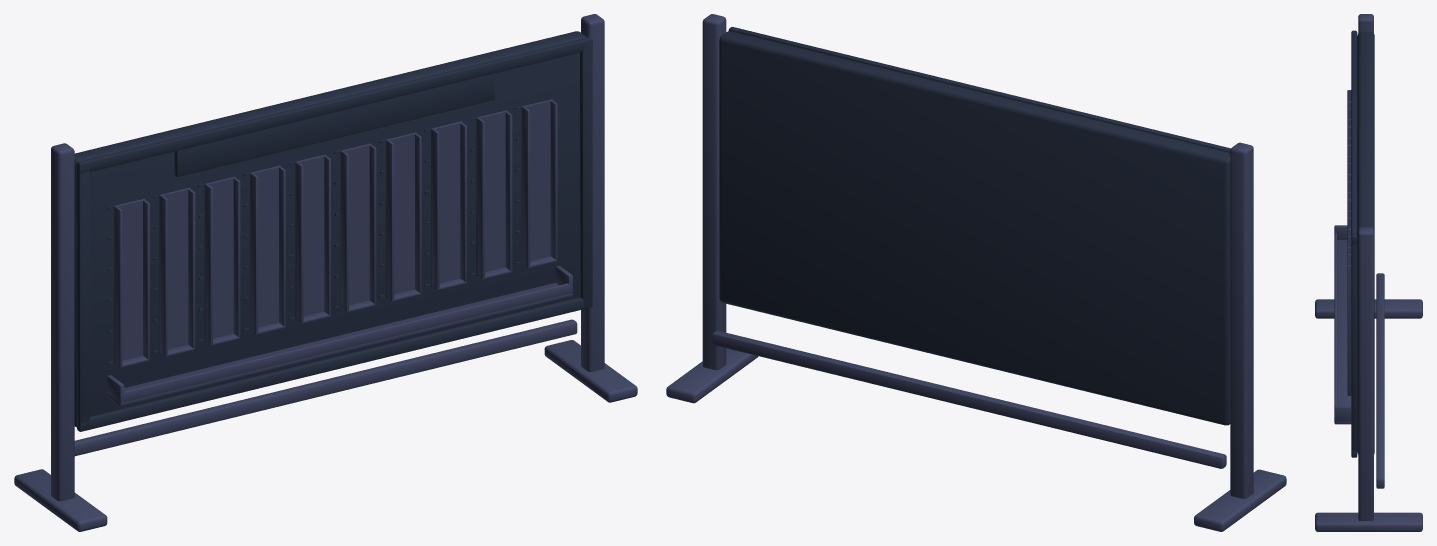
The model's file is counter_board.glb.
The picture shows the model from 3 angles, left to right: view 1: azimuth 30°, elevation 25°; view 2: azimuth 150°, elevation 25°; view 3: azimuth 270°, elevation 25°; orthographic projection. The views are drawn at different scales.
Visible parts, largest first — view 1: board.housing, board.stand, board.rail, board.slot.2, board.slot.5, board.slot.1, board.slot.8, board.slot.9, board.slot.3, board.slot.4, board.slot.6, board.slot.0 (+1 smaller); view 2: board.housing, board.stand; view 3: board.stand, board.housing, board.rail, board.slot.9.
Boxes of the visible parts, x1,y1,x2,y2 form: board.housing: (74, 31, 592, 431); board.stand: (14, 14, 637, 531); board.rail: (107, 265, 572, 406); board.slot.2: (204, 176, 240, 345); board.slot.5: (340, 143, 376, 312); board.slot.1: (159, 187, 195, 356); board.slot.8: (476, 110, 512, 279); board.slot.9: (521, 99, 557, 268); board.slot.3: (250, 165, 285, 334); board.slot.4: (295, 154, 330, 323); board.slot.6: (386, 132, 421, 301); board.slot.0: (114, 199, 149, 367); board.housing: (719, 27, 1230, 425); board.stand: (666, 14, 1286, 531); board.stand: (1315, 14, 1422, 531); board.housing: (1351, 30, 1374, 457); board.rail: (1334, 225, 1351, 424); board.slot.9: (1347, 254, 1351, 395).
Size of the model in its own units: 3.71 by 2.28 by 0.75.
